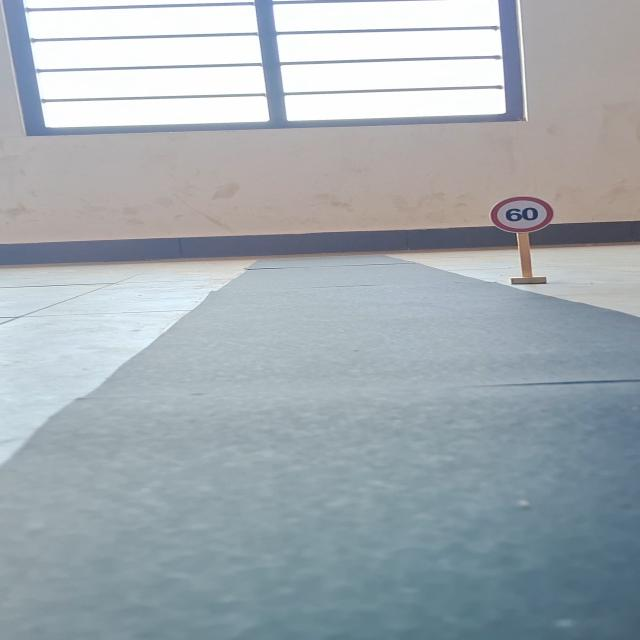Speed60: (490, 195, 557, 232)
